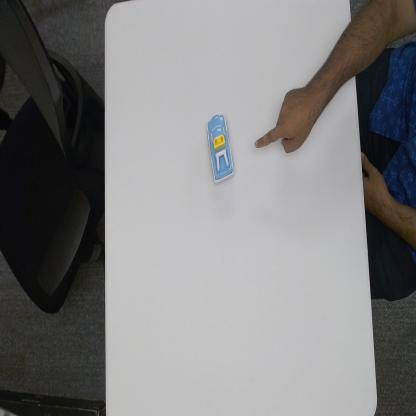Arm: (308, 24, 356, 109)
Car: (204, 111, 236, 185)
Hand: (255, 86, 316, 158)
